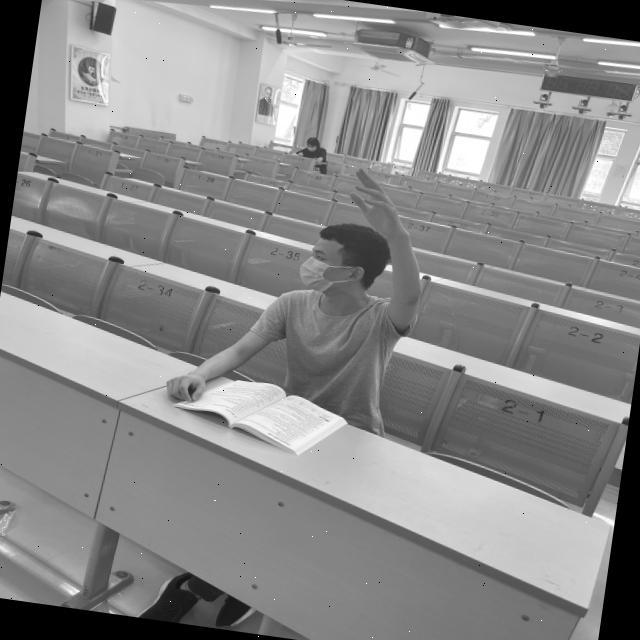study: (164, 150, 437, 472)
